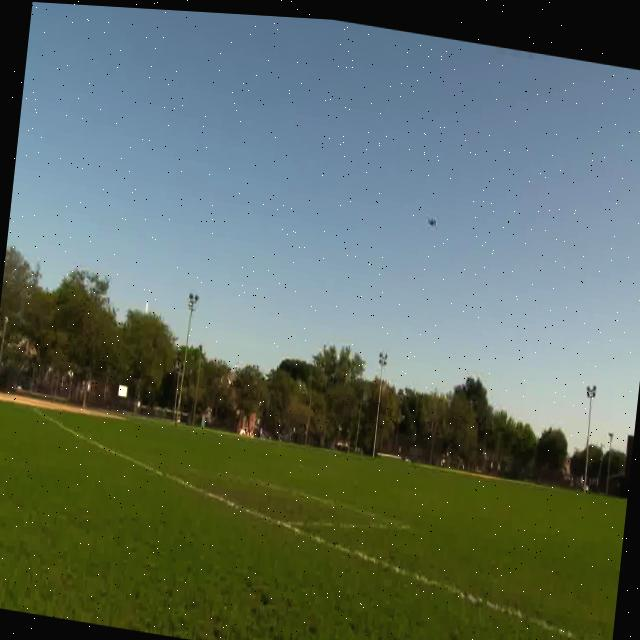drone: (423, 199, 443, 228)
